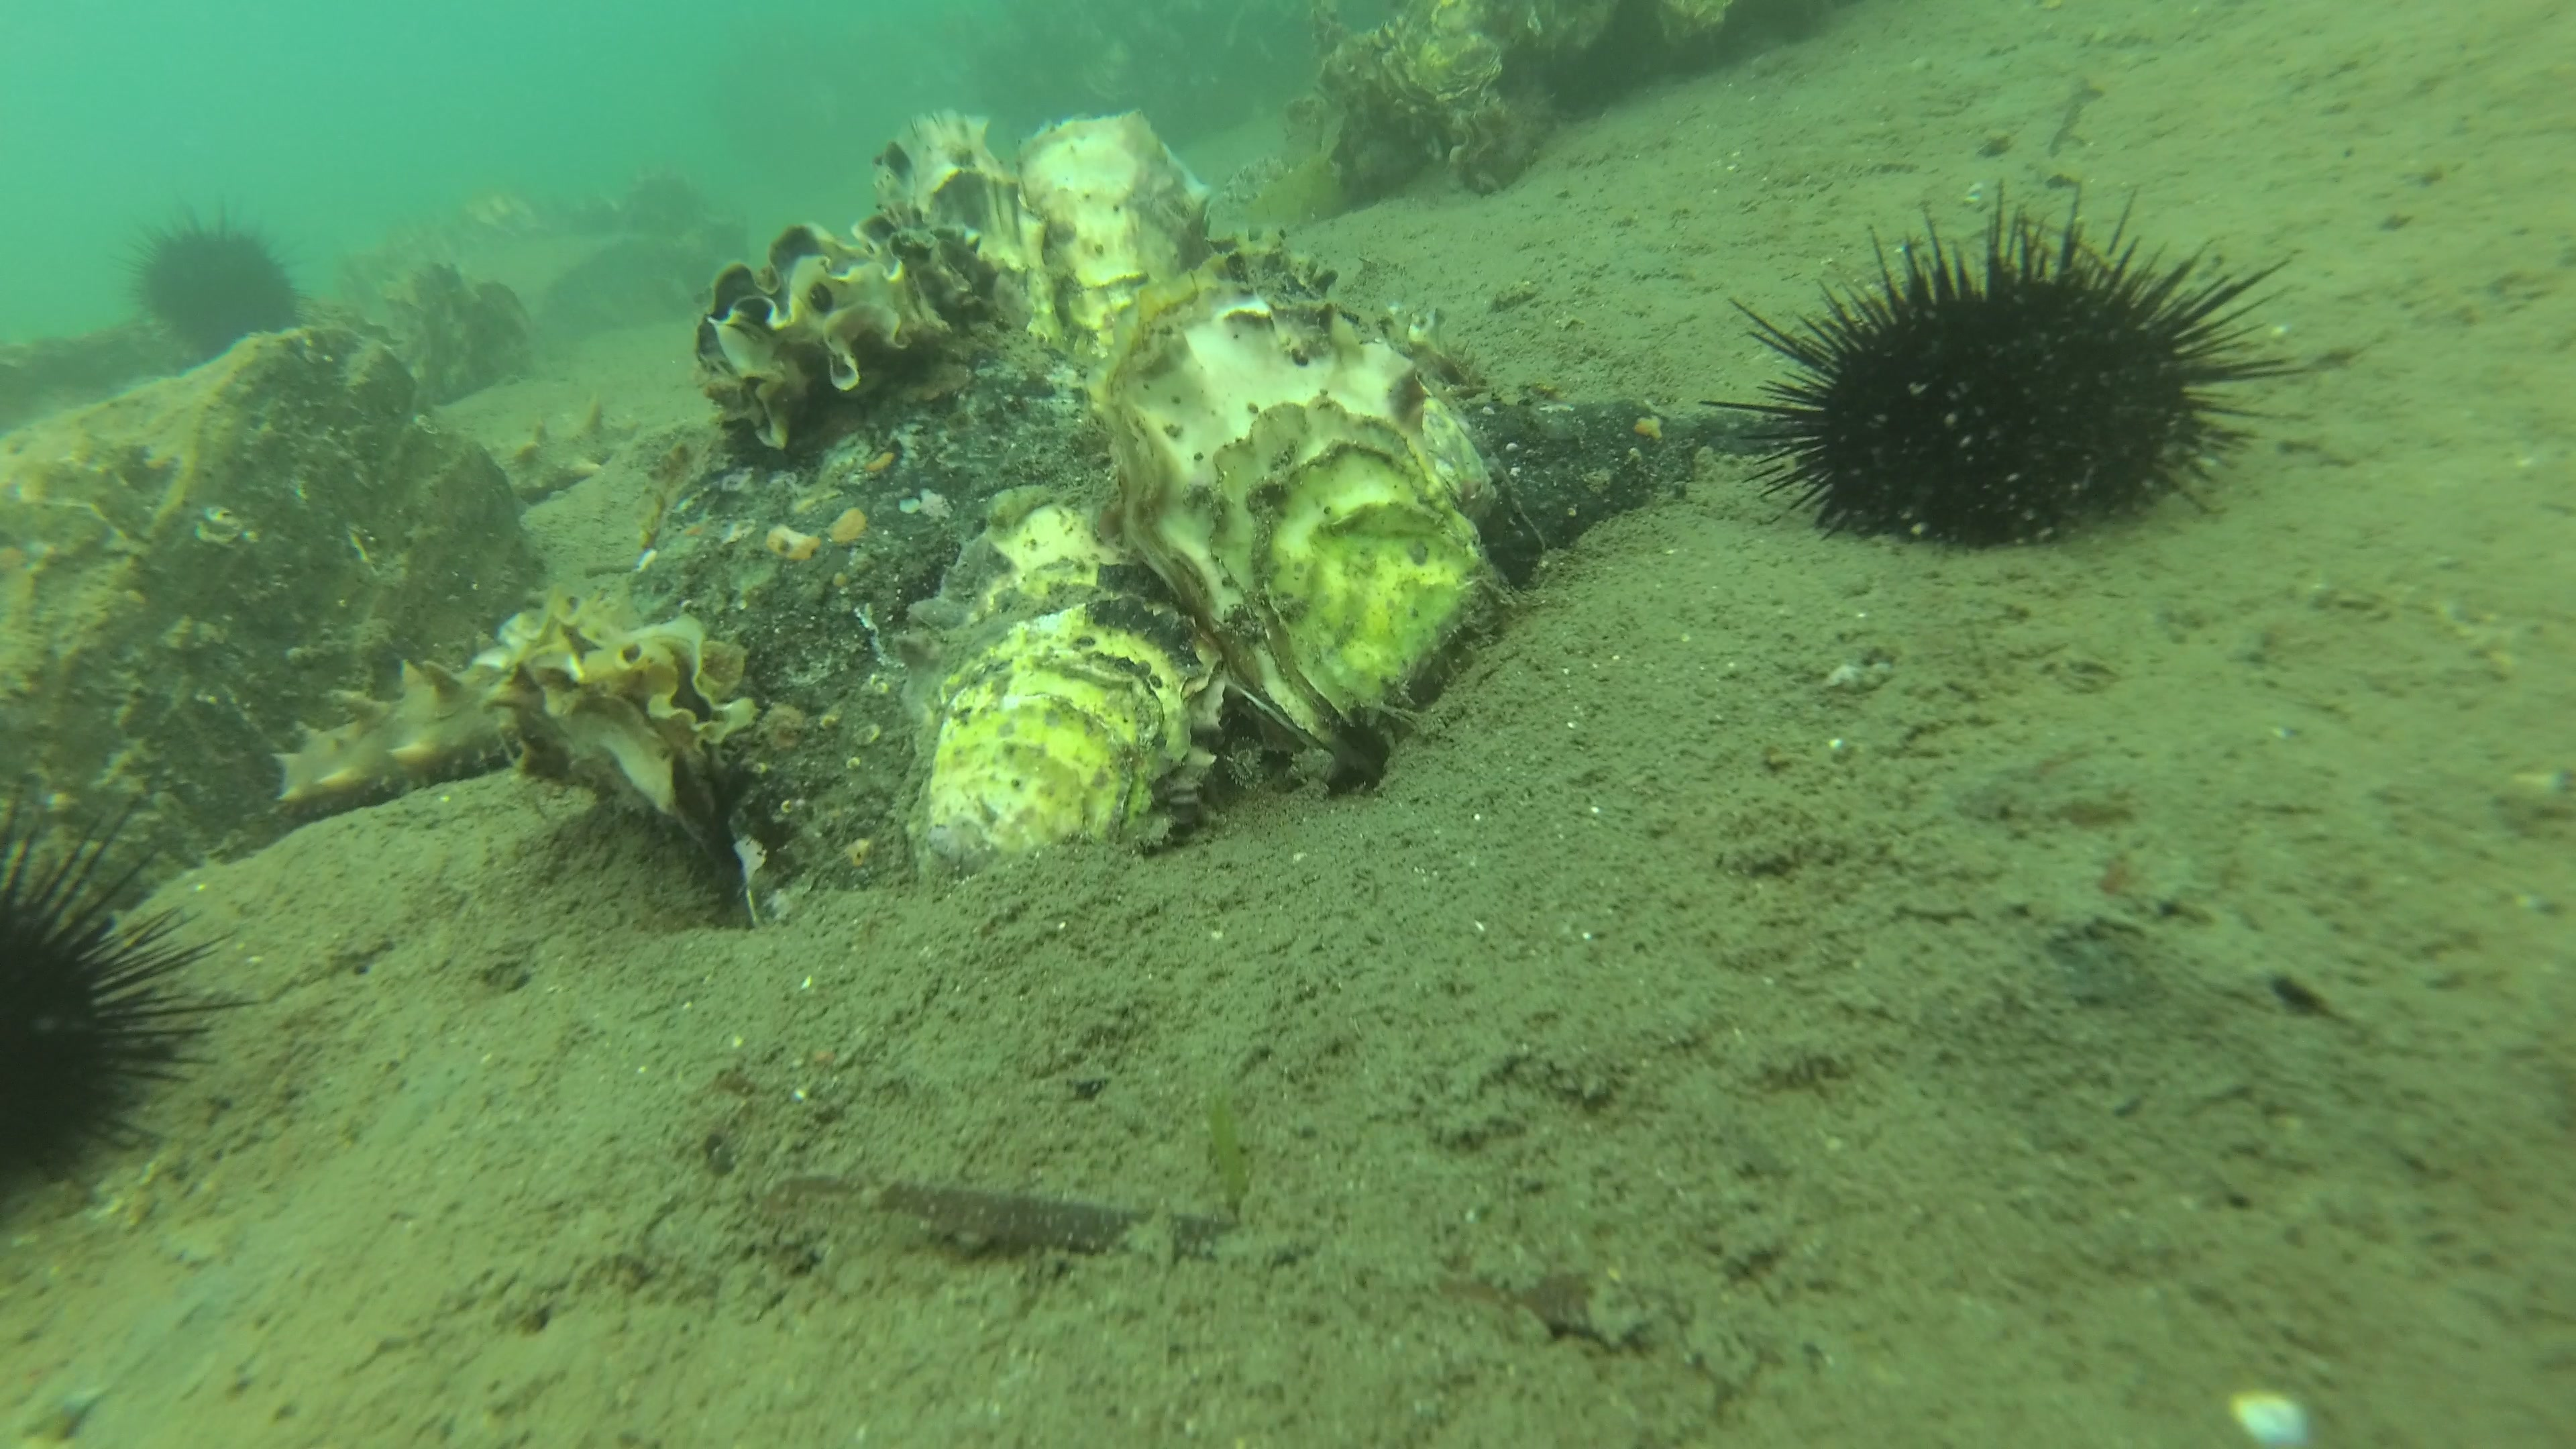echinus: (1693, 172, 2311, 552), (0, 766, 265, 1212), (113, 195, 311, 364)
holothurian: (264, 625, 522, 816), (479, 391, 649, 502)
